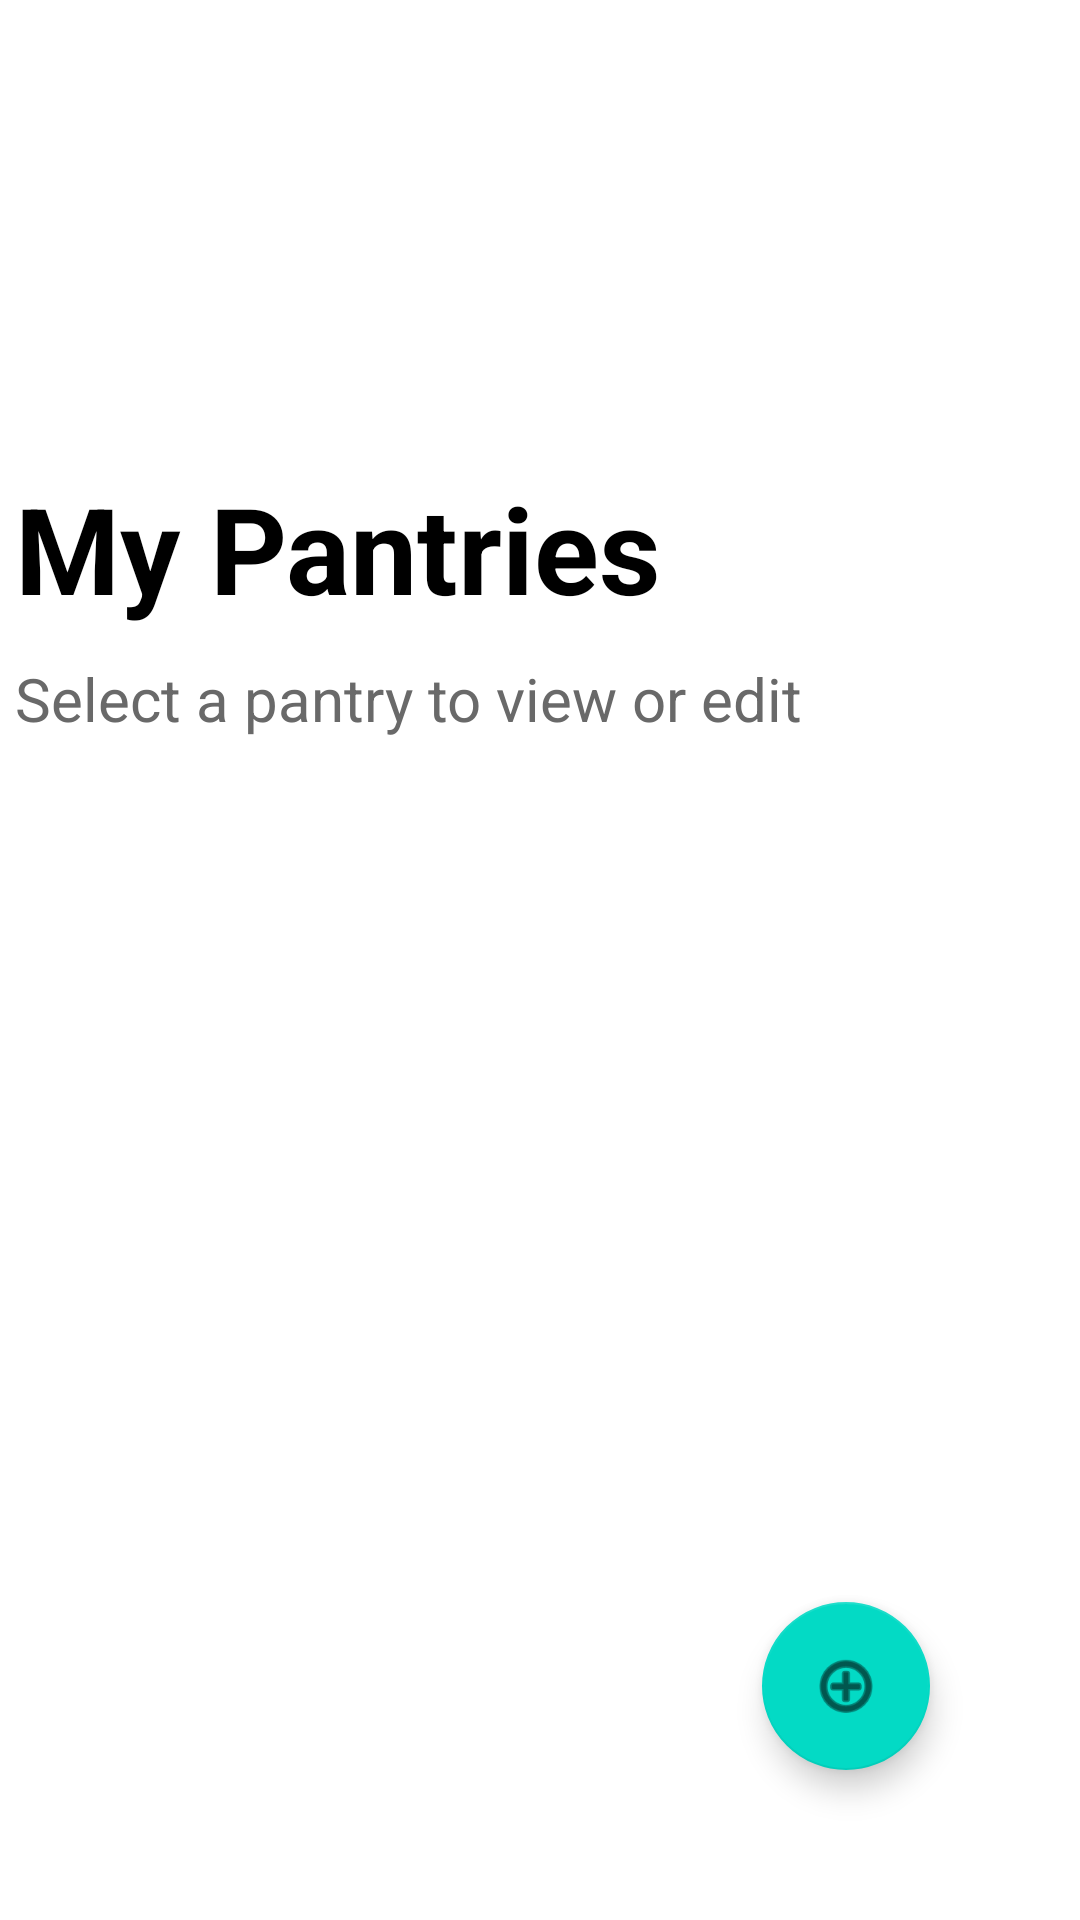

Icon click points for this 1080 x 1920 phone screenshot, format (x=x, y=y):
add: (x=846, y=1686)
